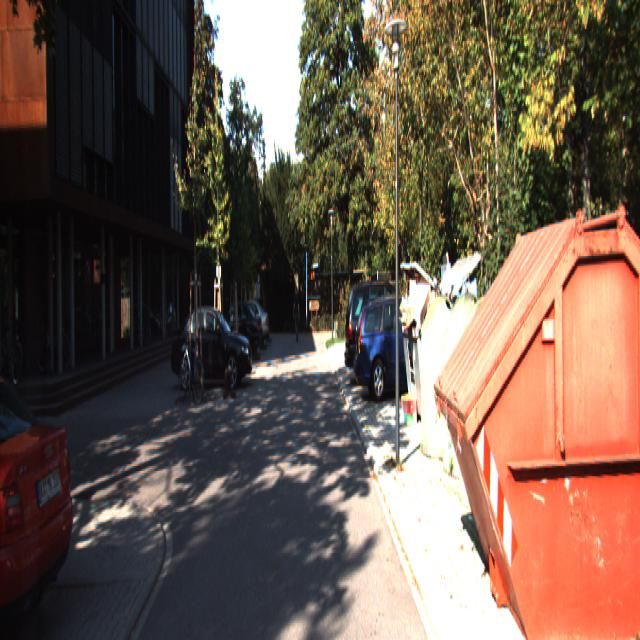Car: (0, 349, 81, 639), (353, 290, 449, 401), (344, 276, 427, 384), (172, 304, 255, 387), (208, 299, 262, 358), (226, 301, 270, 348)
